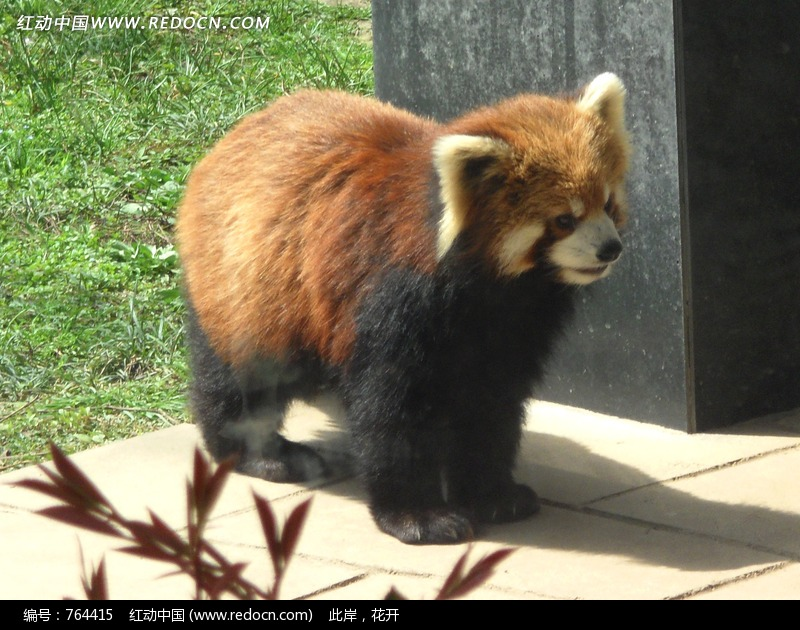raccoon: (164, 64, 636, 542)
